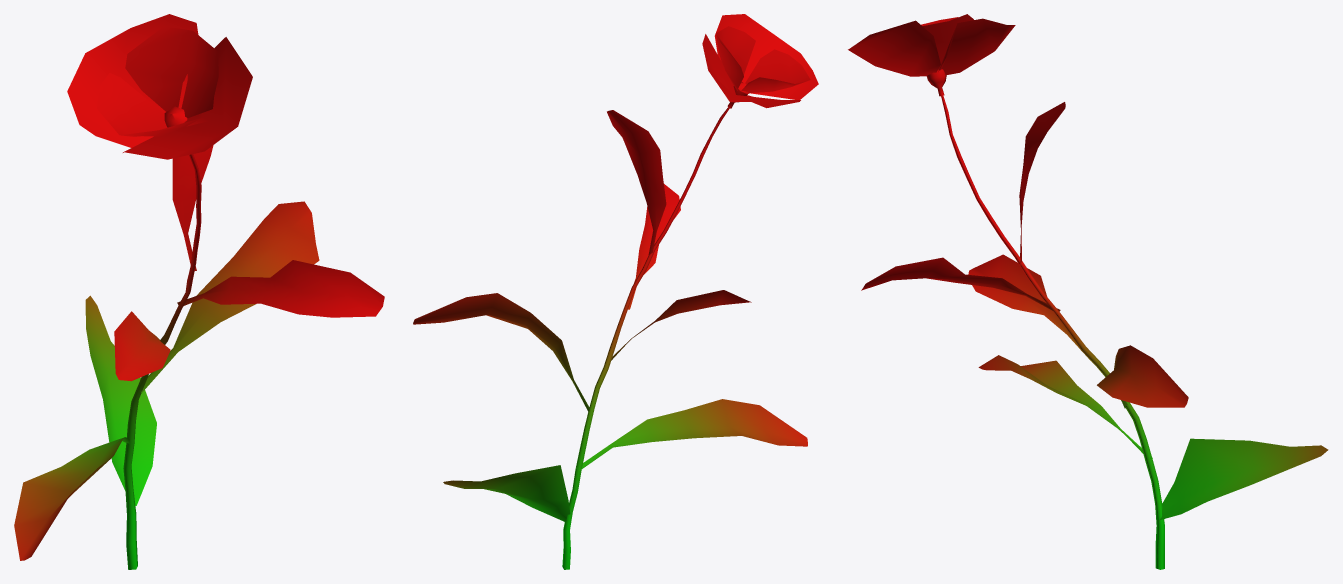
The model's file is Field Poppy_LOD1_Var13_vmcobd0ja.fbx.
3 views of the same model, side by side, from view 1: azimuth 30°, elevation 25°; view 2: azimuth 150°, elevation 25°; view 3: azimuth 270°, elevation 25° (orthographic). The views are drawn at different scales.
Parts seen in each view (by area): view 1: _tq3a_Var13_LOD1; view 2: _tq3a_Var13_LOD1; view 3: _tq3a_Var13_LOD1.
Part boxes in pixels (x1=…): _tq3a_Var13_LOD1: x1=14, y1=14, x2=384, y2=569; _tq3a_Var13_LOD1: x1=413, y1=14, x2=818, y2=569; _tq3a_Var13_LOD1: x1=848, y1=14, x2=1328, y2=569.
Bounding box in the file's own units: 27.43 × 41.56 × 34.51.
